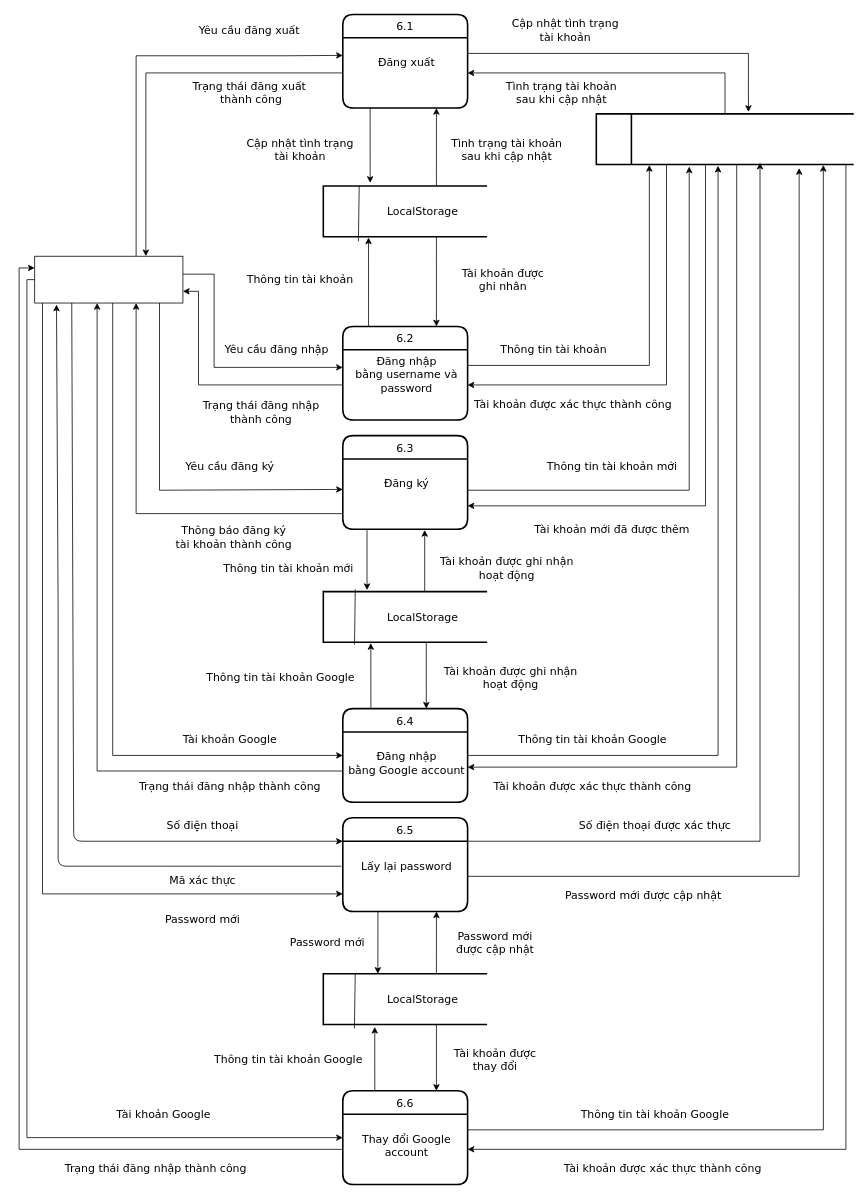
The diagram is 868 pixels wide and 1198 high, and some of its shapes have lost their labels. Each missing label, with the centre of its shape:
"Database" goes at pixel 724 139.
"User" goes at pixel 108 279.
